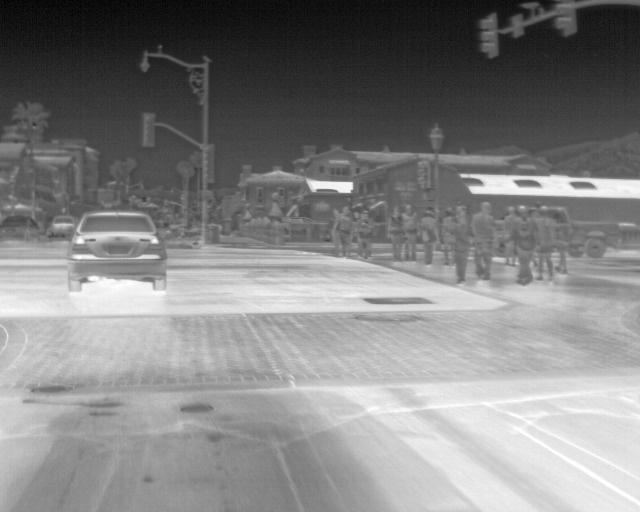bicycle: (66, 211, 168, 291), (557, 206, 622, 260), (1, 216, 38, 243), (46, 212, 78, 241)
empty: (469, 200, 497, 280), (510, 205, 537, 286), (449, 203, 471, 283), (537, 205, 557, 277), (416, 209, 438, 262), (397, 205, 417, 261), (332, 205, 352, 257), (384, 206, 403, 260)
